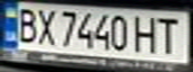0: (109, 11, 133, 53)
4: (90, 11, 112, 51), (75, 10, 96, 49)
7: (54, 8, 78, 47)
B: (12, 5, 42, 44)
H: (130, 12, 163, 54)
T: (154, 15, 184, 55)
X: (33, 6, 57, 46)
